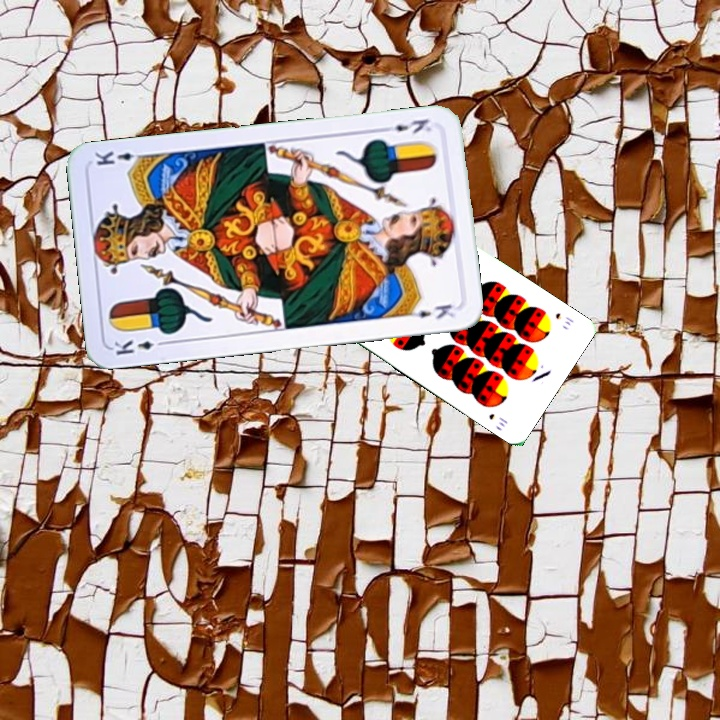EK: (110, 335, 169, 358), (378, 114, 434, 136)
S10: (551, 309, 576, 328)
